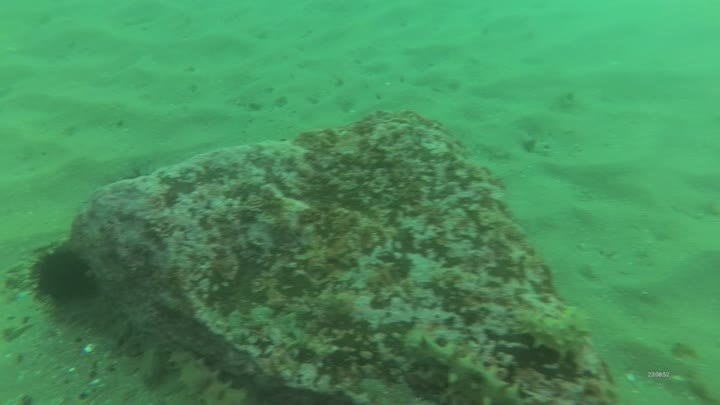echinus: (26, 250, 100, 308)
holothurian: (406, 336, 522, 403), (168, 350, 250, 405), (517, 300, 594, 355)
